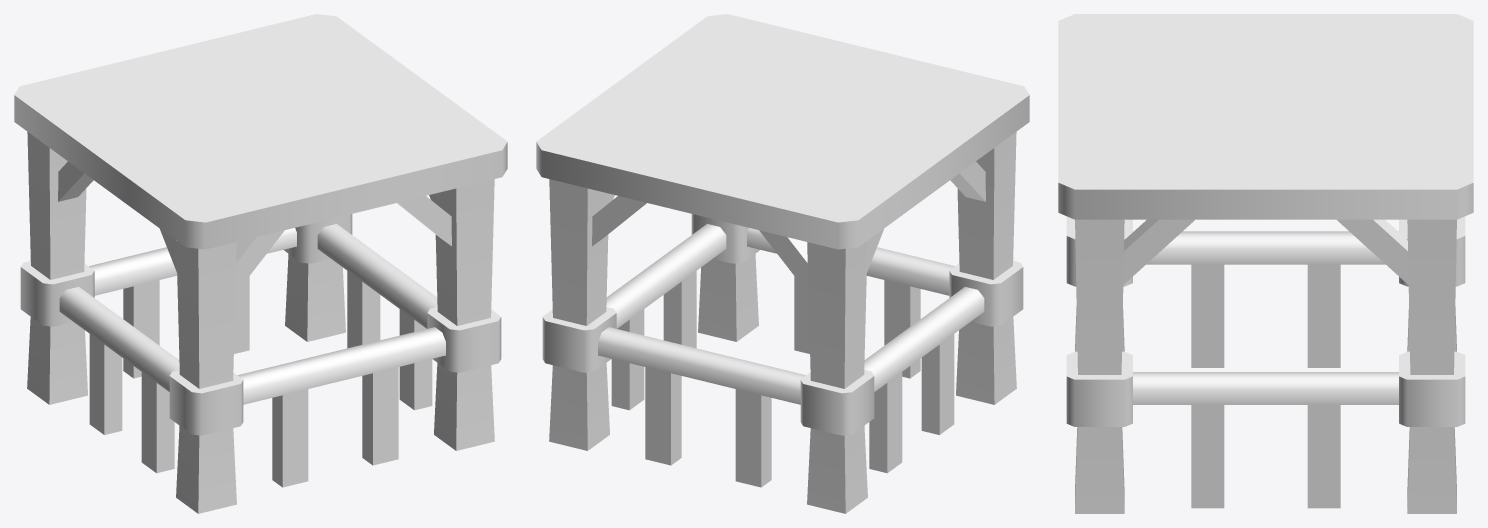
The model's file is structure-fence-sides.glb.
The picture shows the model from 3 angles, left to right: view 1: azimuth 30°, elevation 25°; view 2: azimuth 150°, elevation 25°; view 3: azimuth 270°, elevation 25°; orthographic projection. The views are drawn at different scales.
Parts seen in each view (by area): view 1: structure-fence-sides, Group; view 2: structure-fence-sides, Group; view 3: structure-fence-sides.
Part boxes in pixels (bbox=[...]): structure-fence-sides: bbox=[14, 14, 507, 513]; Group: bbox=[89, 228, 445, 487]; structure-fence-sides: bbox=[536, 14, 1029, 513]; Group: bbox=[598, 228, 954, 487]; structure-fence-sides: bbox=[1058, 14, 1473, 513].
Bounding box in the file's own units: 2.5 × 2.2 × 2.5.
Materials: 1 (1 with a texture image).
